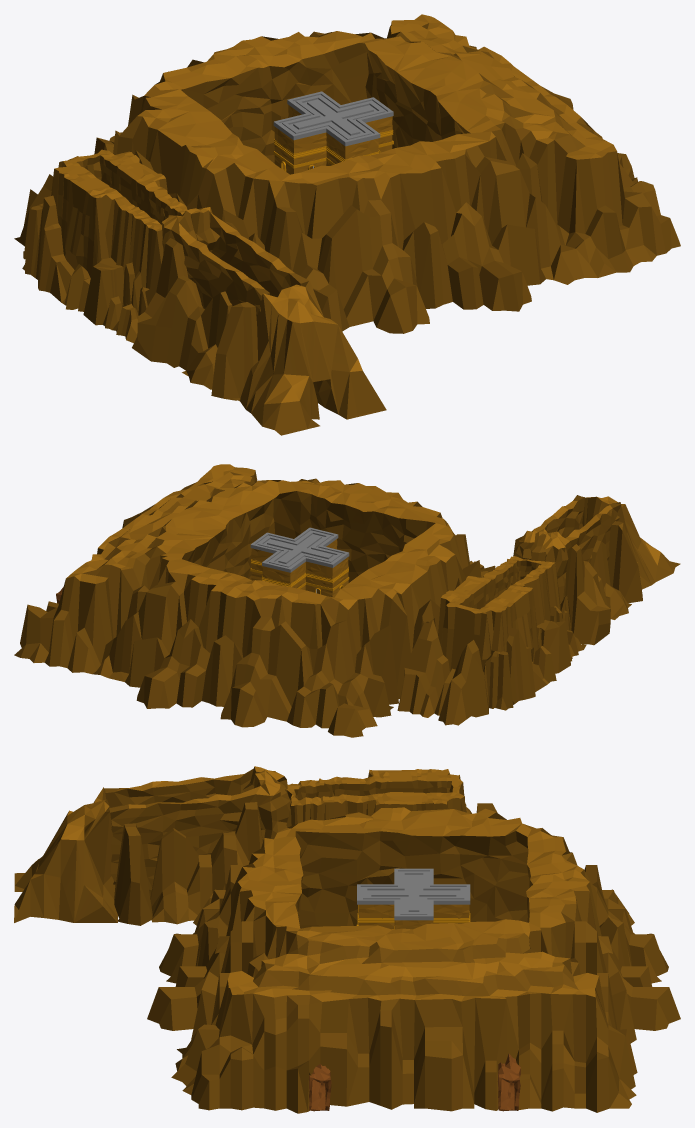
File: Lalibela with Terrain Colored (8).fbx
3 views of the same model, one above another, from view 1: azimuth 30°, elevation 25°; view 2: azimuth 150°, elevation 25°; view 3: azimuth 270°, elevation 25° (orthographic). The views are drawn at different scales.
Visible parts, largest first — view 1: Lalibela_full; view 2: Lalibela_full; view 3: Lalibela_full.
Part boxes in pixels (bbox=[...]): Lalibela_full: bbox=[14, 14, 680, 435]; Lalibela_full: bbox=[14, 464, 680, 737]; Lalibela_full: bbox=[14, 766, 680, 1113].
Bounding box in the file's own units: 15633 × 3492 × 17231.
1 material, 1 textured.
